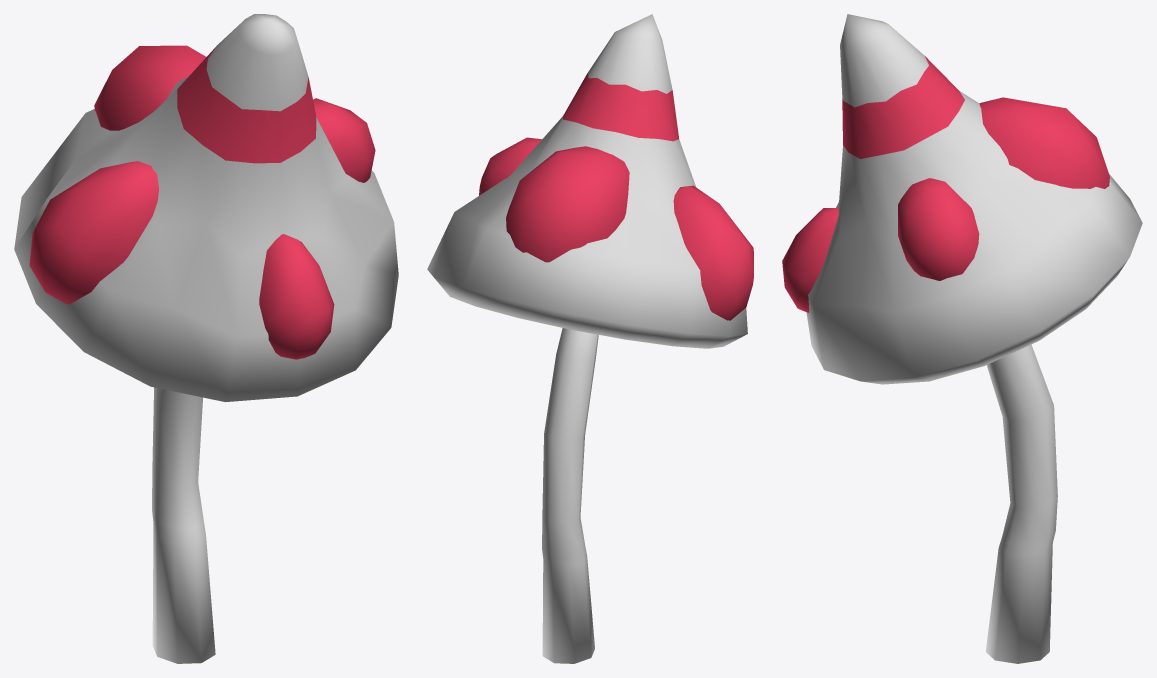
The model's file is MushroomProp.fbx.
3 views of the same model, side by side, from view 1: azimuth 30°, elevation 25°; view 2: azimuth 150°, elevation 25°; view 3: azimuth 270°, elevation 25° (orthographic). The views are drawn at different scales.
Visible parts, largest first — view 1: MushroomProp; view 2: MushroomProp; view 3: MushroomProp.
Boxes of the visible parts, bbox=[...] form: MushroomProp: bbox=[14, 14, 398, 663]; MushroomProp: bbox=[427, 14, 753, 663]; MushroomProp: bbox=[782, 14, 1142, 663].
Bounding box in the file's own units: 0.6532 × 1.24 × 0.638.
